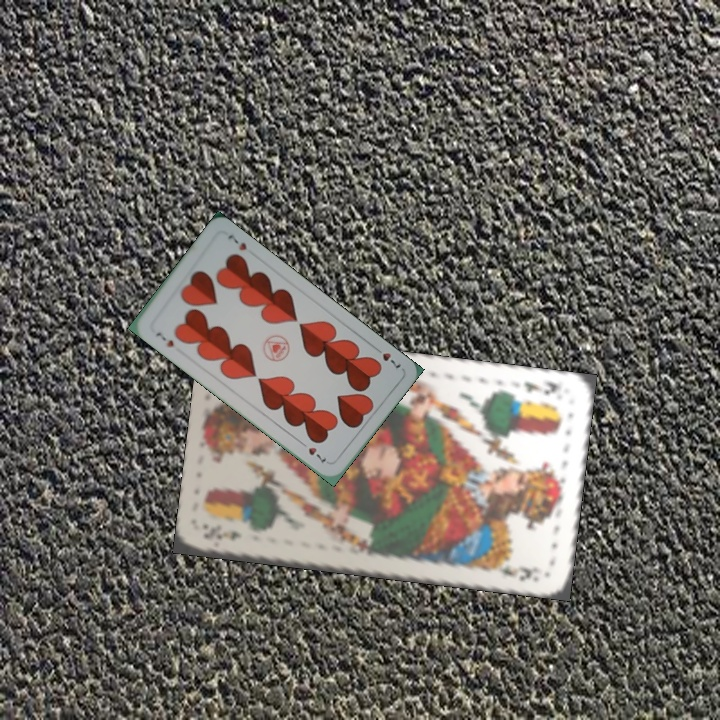EK: (519, 377, 563, 398), (199, 526, 244, 544)
H7: (370, 342, 404, 371), (152, 328, 176, 350)
